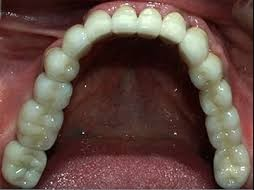UL1BC_healthy: (204, 85, 232, 112)
UL1M_healthy: (213, 147, 250, 190)
UL2BC_healthy: (207, 115, 240, 147)
ULCI_healthy: (138, 7, 160, 38)
ULC_healthy: (192, 61, 222, 87)
ULLI_healthy: (184, 26, 209, 67), (163, 12, 184, 43)
UR1BC_healthy: (44, 49, 78, 81)
UR1M_healthy: (19, 102, 61, 149)
UR2BC_healthy: (34, 74, 74, 108)
UR2M_healthy: (6, 143, 44, 186)
URCI_healthy: (113, 6, 138, 36)
URC_healthy: (64, 25, 90, 58)
URLI_healthy: (86, 11, 112, 40)
